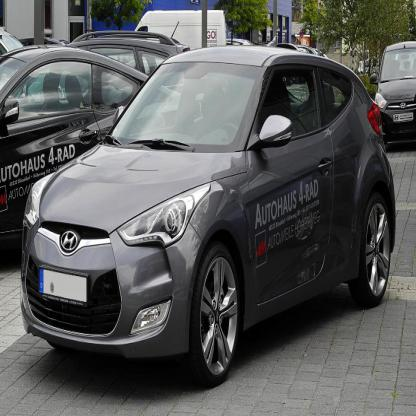Car: (19, 35, 396, 390), (0, 26, 192, 251), (226, 38, 327, 104), (370, 42, 415, 146)
